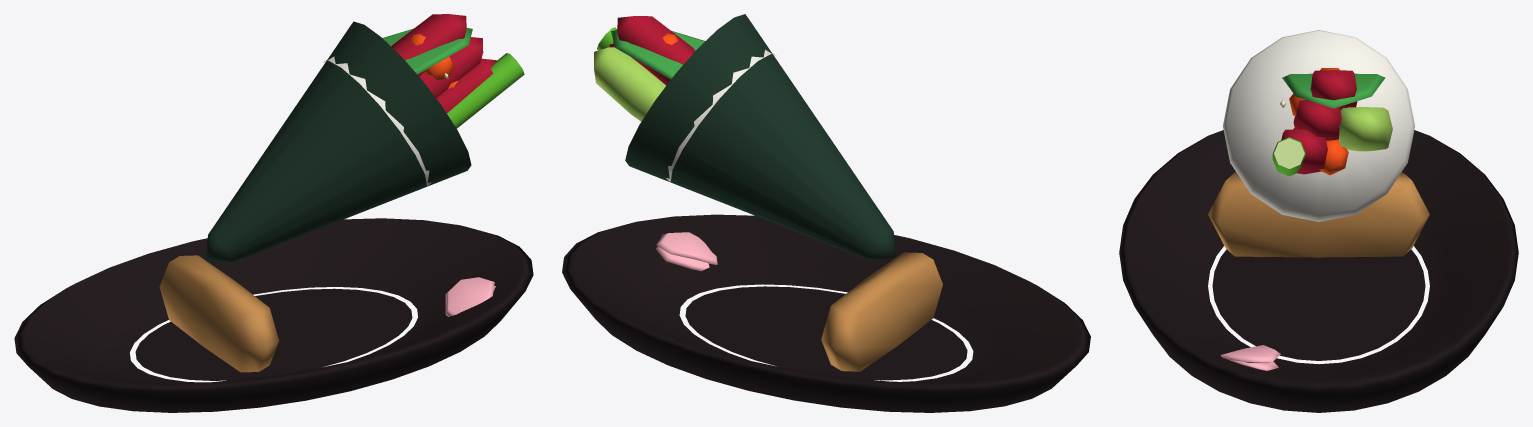
3 views of the same model, side by side, from view 1: azimuth 30°, elevation 25°; view 2: azimuth 150°, elevation 25°; view 3: azimuth 270°, elevation 25° (orthographic). The views are drawn at different scales.
Visible parts, largest first — view 1: plate, nori, plate_well, stand, tuna (×3), cucumber, ginger, shiso, rice; view 2: plate, nori, plate_well, stand, avocado, tuna, ginger (×2), shiso, rice; view 3: plate, rice, plate_well, stand, tuna (×3), avocado, shiso, ginger, cucumber_end, ikura.
Part boxes in pixels (x1,y1,x2,y2): plate: [14, 218, 533, 412]; nori: [205, 21, 471, 263]; plate_well: [135, 288, 412, 380]; stand: [159, 255, 278, 372]; tuna (×3): [391, 14, 496, 113]; cucumber: [447, 53, 524, 128]; ginger: [445, 277, 494, 316]; shiso: [382, 28, 472, 74]; rice: [323, 56, 431, 186]; plate: [562, 214, 1090, 412]; nori: [625, 14, 895, 260]; plate_well: [685, 286, 967, 380]; stand: [821, 252, 942, 371]; avocado: [594, 47, 665, 121]; tuna: [617, 16, 695, 85]; ginger (×2): [656, 232, 717, 271]; shiso: [611, 30, 705, 79]; rice: [666, 49, 776, 182]; plate: [1119, 130, 1518, 412]; rice: [1223, 30, 1414, 221]; plate_well: [1212, 249, 1425, 360]; stand: [1208, 172, 1429, 257]; tuna (×3): [1281, 70, 1357, 174]; avocado: [1338, 107, 1392, 151]; shiso: [1282, 73, 1385, 108]; ginger: [1220, 345, 1280, 363]; cucumber_end: [1274, 138, 1304, 168]; ikura: [1319, 139, 1348, 175].
Bounding box in the file's own units: 0.18 × 0.1061 × 0.108.
